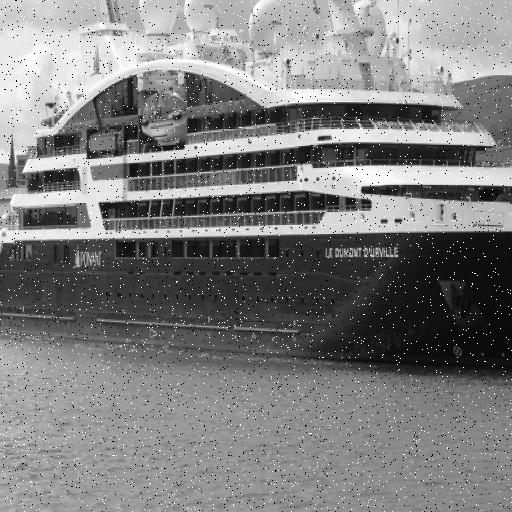cruises: (1, 1, 512, 381)
